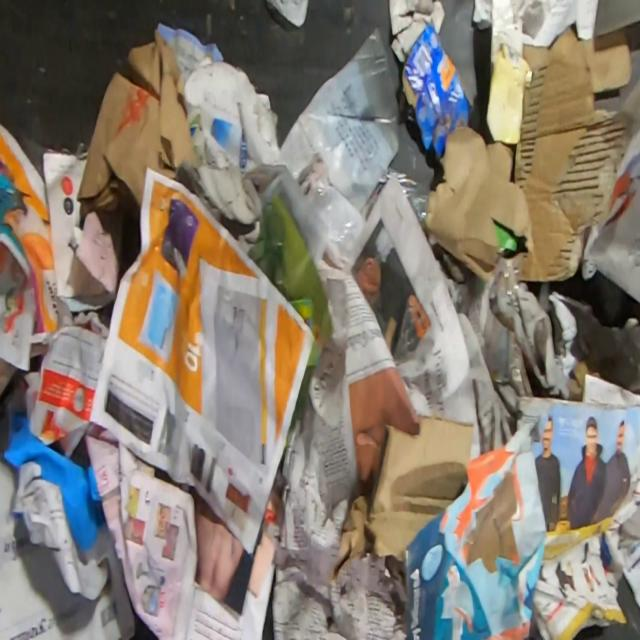cardboard: (424, 23, 634, 285), (76, 25, 194, 222), (332, 415, 475, 577), (183, 55, 280, 243), (580, 49, 640, 307), (400, 23, 472, 164), (388, 0, 446, 63), (568, 360, 601, 401)
soft_plastic: (497, 262, 521, 304)
